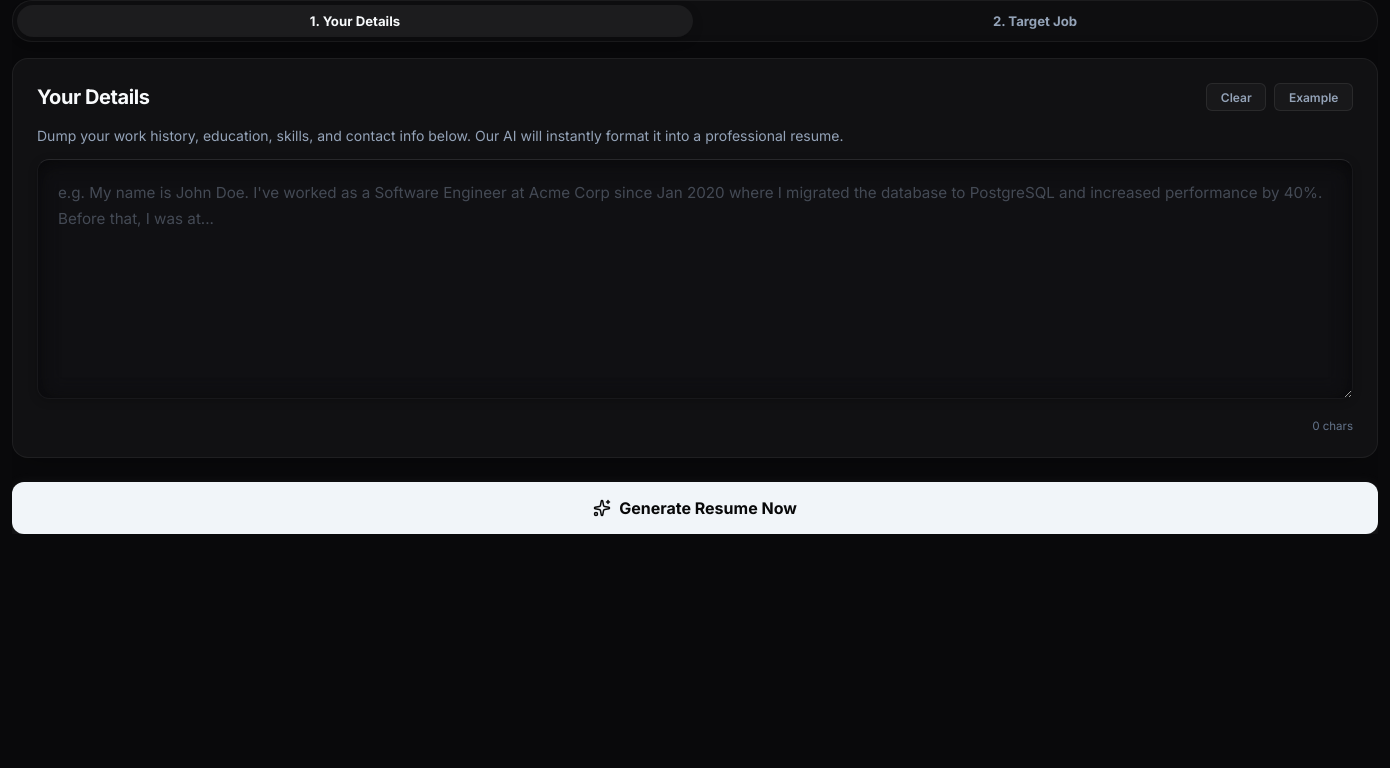
Test: PromptInput Component › displays validation message if submission tried with empty input
Step 1. Click the button "Generate Resume Now" → (695, 508), box [12,482,1378,534]
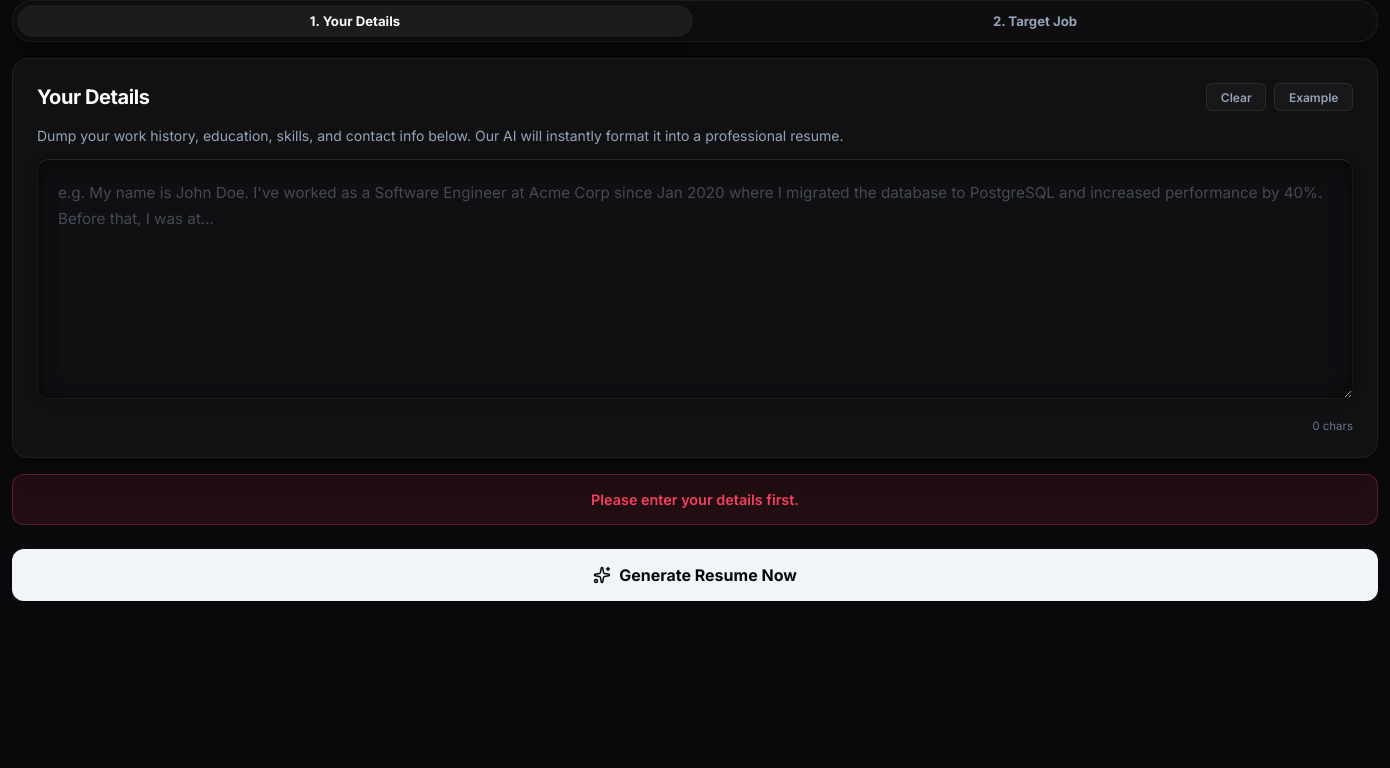
Result: the text "Please enter your details first." is shown at [12,474,1378,525]
